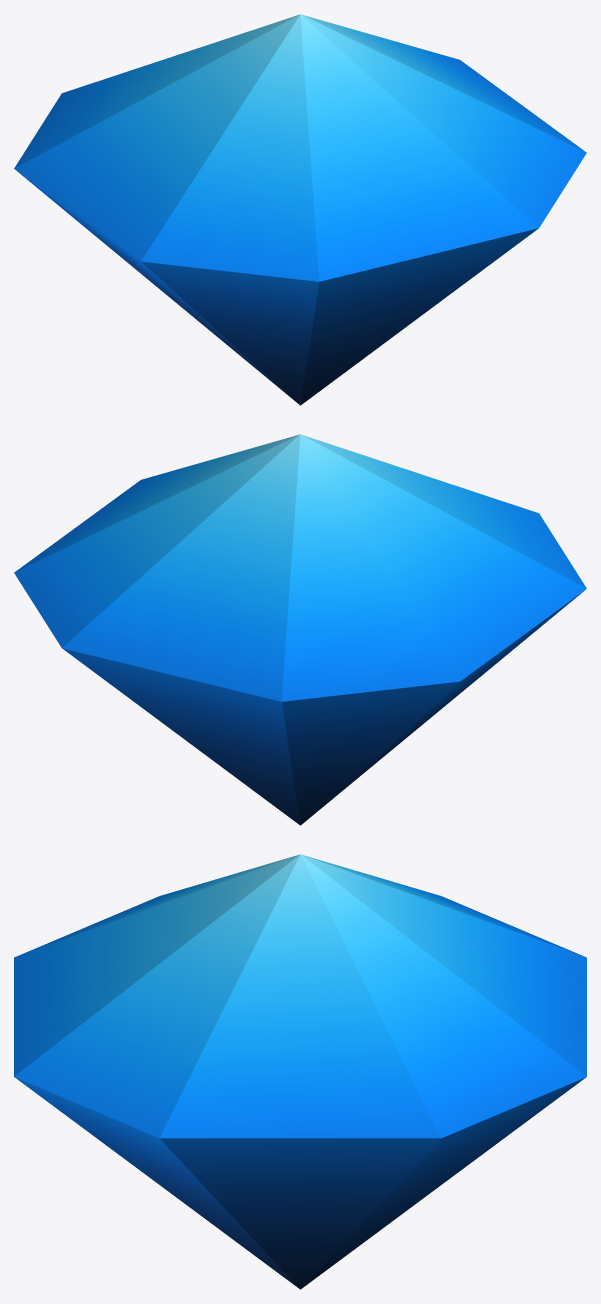
Rendered from Gem_DarkBlue.fbx.
The picture shows the model from 3 angles, top to bottom: view 1: azimuth 30°, elevation 25°; view 2: azimuth 150°, elevation 25°; view 3: azimuth 270°, elevation 25°; orthographic projection. The views are drawn at different scales.
Visible parts, largest first — view 1: Gem_DarkBlue; view 2: Gem_DarkBlue; view 3: Gem_DarkBlue.
Part boxes in pixels (x1,y1,x2,y2): Gem_DarkBlue: [14, 14, 586, 405]; Gem_DarkBlue: [14, 434, 586, 825]; Gem_DarkBlue: [14, 854, 586, 1289].
Size of the model in its own units: 7.34 by 6.15 by 7.34.
